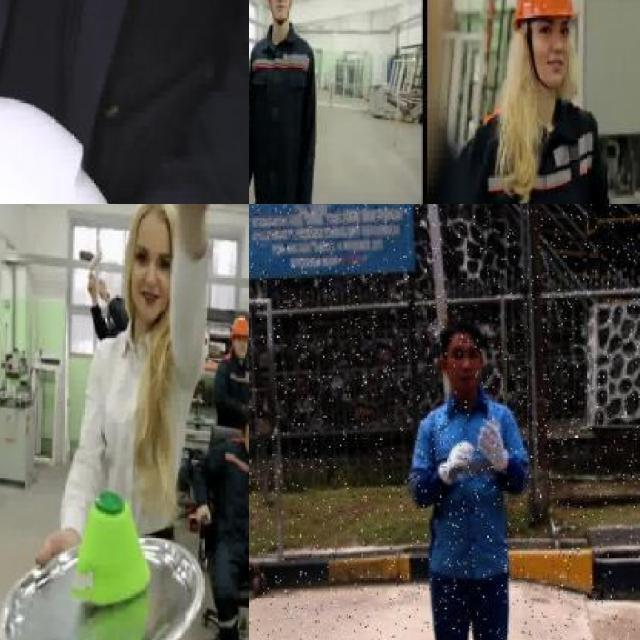apron: (434, 436, 482, 490), (476, 414, 510, 474)
